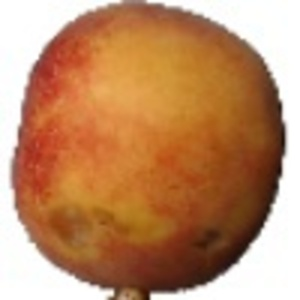pêssego: (2, 1, 288, 300)
